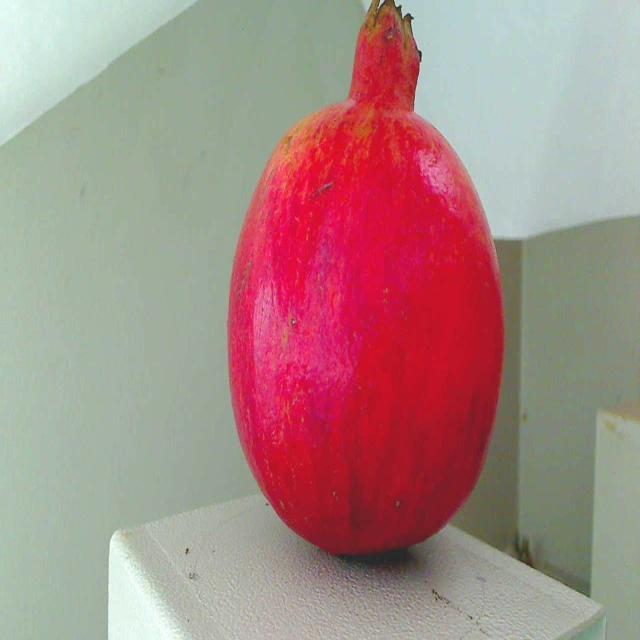pomegranate: (216, 0, 516, 582)
